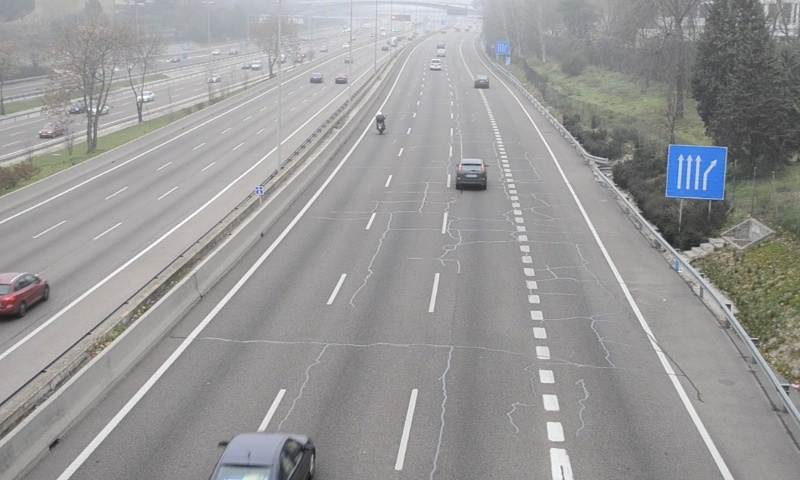car: (210, 433, 312, 480), (456, 158, 488, 190), (474, 75, 488, 89), (430, 58, 441, 71)
motorcycle: (374, 112, 386, 135)
